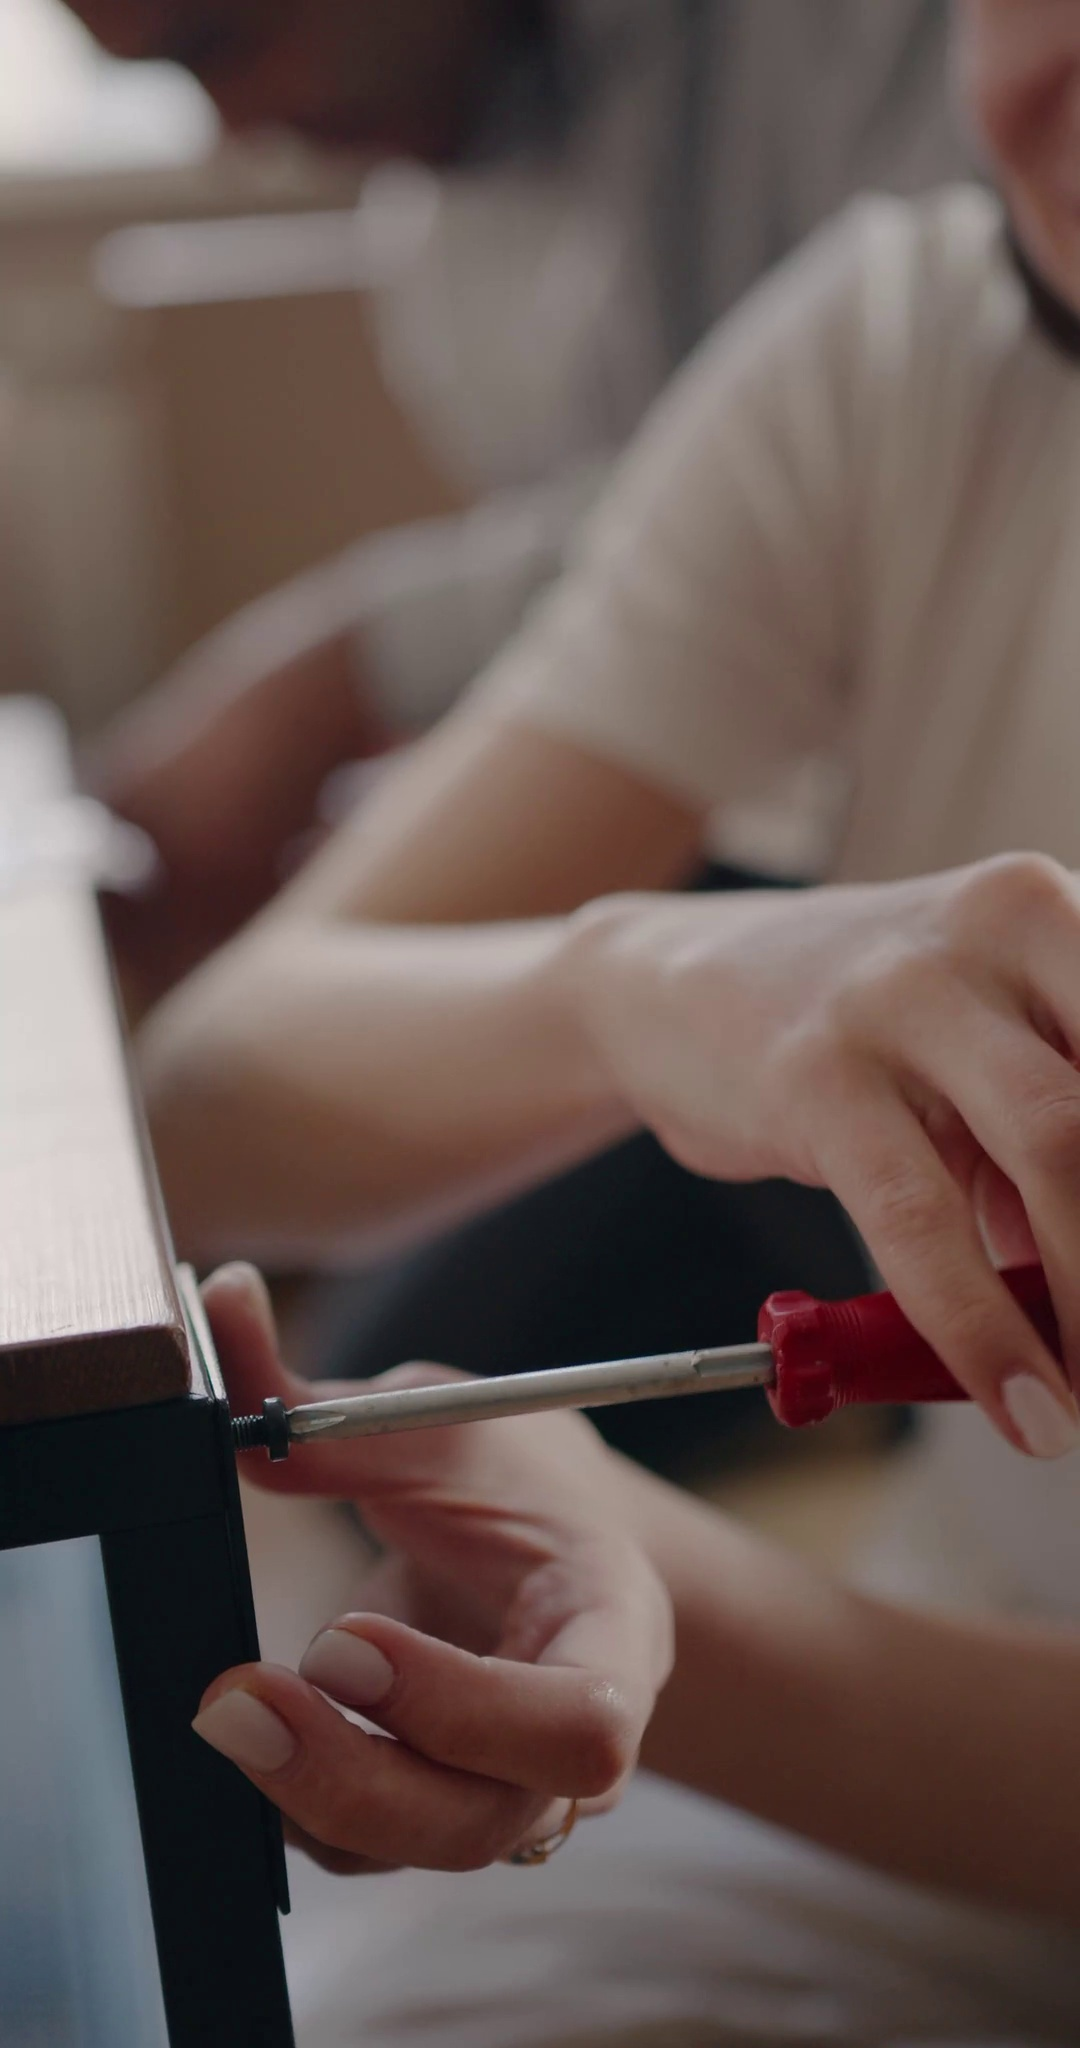screwdriver: (286, 1257, 1080, 1453)
